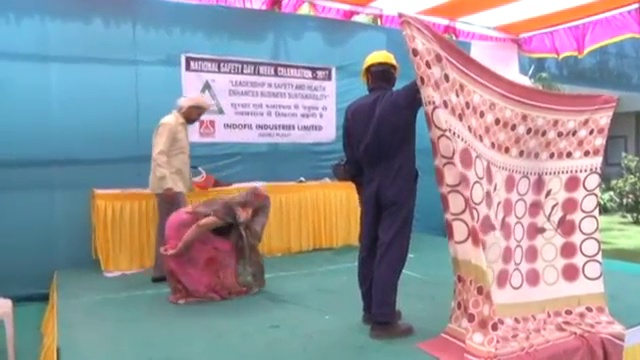helmet: (363, 50, 398, 82)
helmet_off: (178, 95, 212, 125), (241, 185, 269, 217)
helmet_on: (362, 50, 399, 94)
person: (336, 50, 425, 342), (161, 184, 270, 303), (147, 95, 211, 285)
